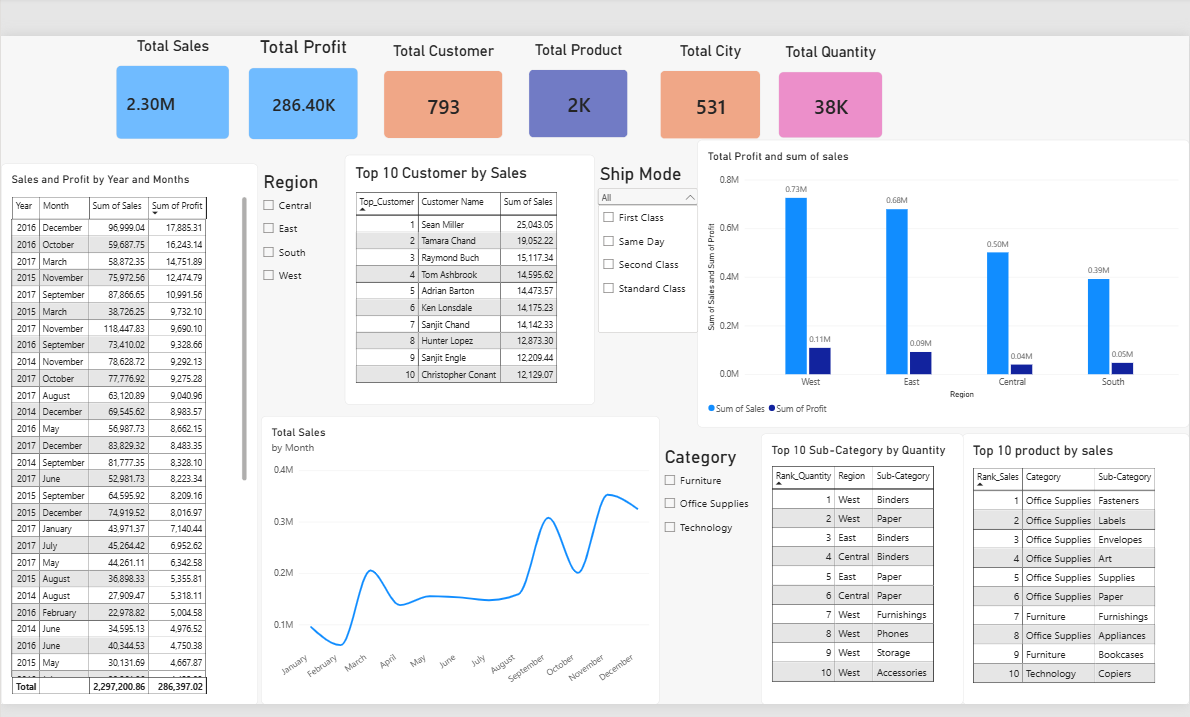

The page's visual inventory and layout, read from the dashboard file:
{"tool":"powerbi","page":{"name":"Page 1","canvas":[1920,1080],"ordinal":0},"visuals":[{"type":"cardVisual","title":"Total Customer","fields":{"Data":["Sample - Superstore.Total_Customer"]},"box":[617.9,10.1,193.5,156.4],"z":0},{"type":"cardVisual","title":"Total Product","fields":{"Data":["Sample - Superstore.Total_product"]},"box":[852.2,8.1,161.5,157.5],"z":1000},{"type":"cardVisual","title":"Total City","fields":{"Data":["Sample - Superstore.Total_city"]},"box":[1064.2,10.1,163.6,157.5],"z":2000},{"type":"slicer","fields":{"Values":["Sample - Superstore.Ship Mode"]},"box":[960,205,171.6,272.6],"z":3000},{"type":"clusteredColumnChart","title":"Total Profit and sum of sales","fields":{"Category":["Sample - Superstore.Region"],"Y":["Sum(Sample - Superstore.Sales)","Sum(Sample - Superstore.Profit)"]},"box":[1125,167.5,795,465],"z":4000},{"type":"cardVisual","title":"Total Profit","fields":{"Data":["Sum(Sample - Superstore.Profit)"]},"box":[399.8,0,177.7,167.6],"z":5000},{"type":"tableEx","title":"Top 10 product by sales","fields":{"Values":["Sample - Superstore.Rank_Sales","Sample - Superstore.Category","Sample - Superstore.Sub-Category"]},"box":[1552.9,642.2,367.5,438.2],"z":6000},{"type":"tableEx","title":"Top 10 Sub-Category by Quantity","fields":{"Values":["Sample - Superstore.Rank_Quantity","Sample - Superstore.Region","Sample - Superstore.Sub-Category"]},"box":[1227.8,642.2,327.1,438.2],"z":7000},{"type":"cardVisual","title":"Total Quantity","fields":{"Data":["Sample - Superstore.Total Quantity"]},"box":[1256,12.1,168.6,152.9],"z":8000},{"type":"lineChart","fields":{"Category":["Sample - Superstore.Order Date.Variation.Date Hierarchy.Month"],"Y":["Sample - Superstore.Total Sales"]},"box":[420,613.9,644.2,466.5],"z":9000},{"type":"tableEx","title":"Top 10 Customer by Sales","fields":{"Values":["Sample - Superstore.Top_Customer","Sample - Superstore.Customer Name","Sum(Sample - Superstore.Sales)"]},"box":[555,192.5,403.9,403.9],"z":10000},{"type":"slicer","fields":{"Values":["Sample - Superstore.Category"]},"box":[1065,662.5,190,210],"z":11000},{"type":"slicer","fields":{"Values":["Sample - Superstore.Region"]},"box":[415,217.5,140,250],"z":12000},{"type":"tableEx","title":"Sales and Profit by Year and Months","fields":{"Values":["Sample - Superstore.Order Date.Variation.Date Hierarchy.Year","Sample - Superstore.Order Date.Variation.Date Hierarchy.Month","Sum(Sample - Superstore.Sales)","Sum(Sample - Superstore.Profit)"]},"box":[0,205,415,875],"z":13000},{"type":"cardVisual","title":"Total Sales","fields":{"Data":["Sample - Superstore.Total Sales"]},"box":[185,2.5,183.8,165.6],"z":14000}]}

Visuals, with their boxes on the page's 1920x1080 design canvas (x1, y1, x2, y2). These are canvas units, not pixel positions in the 1190x717 screenshot, which may show the page scaled, cropped or inside an application window:
"Total Customer" cardVisual: 618,10,811,166
"Total Product" cardVisual: 852,8,1014,166
"Total City" cardVisual: 1064,10,1228,168
slicer - Sample - Superstore.Ship Mode: 960,205,1132,478
"Total Profit and sum of sales" clusteredColumnChart: 1125,168,1920,632
"Total Profit" cardVisual: 400,0,578,168
"Top 10 product by sales" tableEx: 1553,642,1920,1080
"Top 10 Sub-Category by Quantity" tableEx: 1228,642,1555,1080
"Total Quantity" cardVisual: 1256,12,1425,165
lineChart - Sample - Superstore.Order Date.Variation.Date Hierarchy.Month x Sample - Superstore.Total Sales: 420,614,1064,1080
"Top 10 Customer by Sales" tableEx: 555,192,959,596
slicer - Sample - Superstore.Category: 1065,662,1255,872
slicer - Sample - Superstore.Region: 415,218,555,468
"Sales and Profit by Year and Months" tableEx: 0,205,415,1080
"Total Sales" cardVisual: 185,2,369,168
